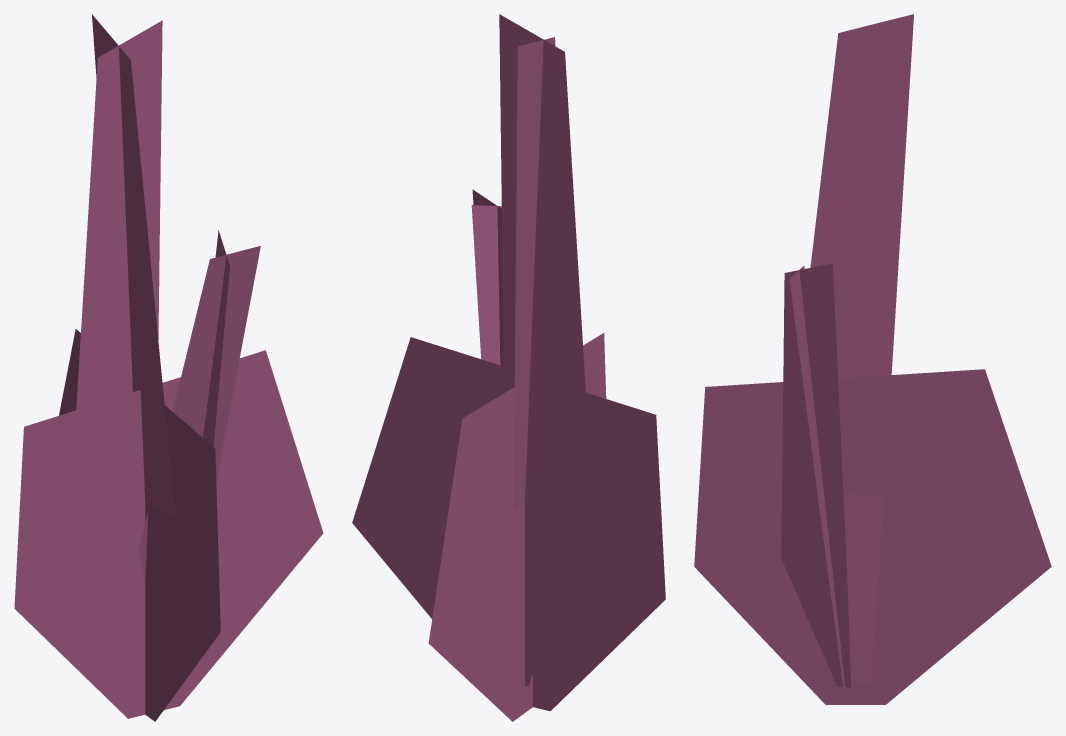
The model's file is SM_FOL_Grass_Tall_02_A.obj.
3 views of the same model, side by side, from view 1: azimuth 30°, elevation 25°; view 2: azimuth 150°, elevation 25°; view 3: azimuth 270°, elevation 25° (orthographic).
Visible parts, largest first — view 1: SM_FOL_Grass_Tall_02_A; view 2: SM_FOL_Grass_Tall_02_A; view 3: SM_FOL_Grass_Tall_02_A.
Part boxes in pixels (left/top/right/bottom): SM_FOL_Grass_Tall_02_A: left=14, top=14, right=323, bottom=721; SM_FOL_Grass_Tall_02_A: left=352, top=14, right=665, bottom=721; SM_FOL_Grass_Tall_02_A: left=694, top=14, right=1051, bottom=704.
Bounding box in the file's own units: 52.73 × 111 × 52.73.
